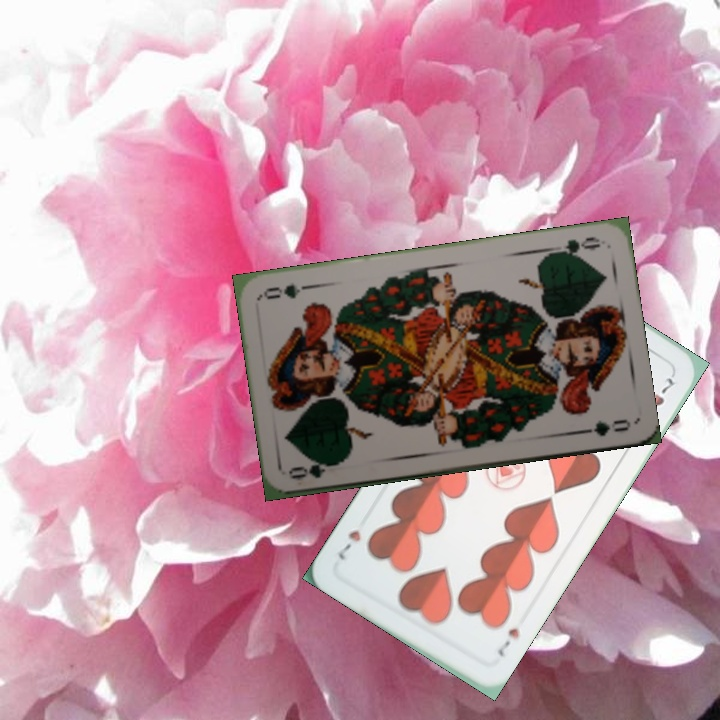GO: (546, 232, 603, 259), (286, 457, 345, 482)
H7: (493, 623, 522, 660)
